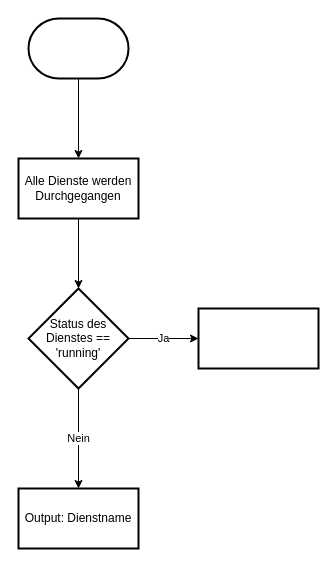
Image size: 336x566. Some labels were removed from this diagram. The shapes that lost their labels are listed below. From the top down, each one's centre as x and y in pixels, then its label:
At (x=78, y=48): "Start".
At (x=258, y=338): "Dienst läuft und wird nicht ausgegeben".
